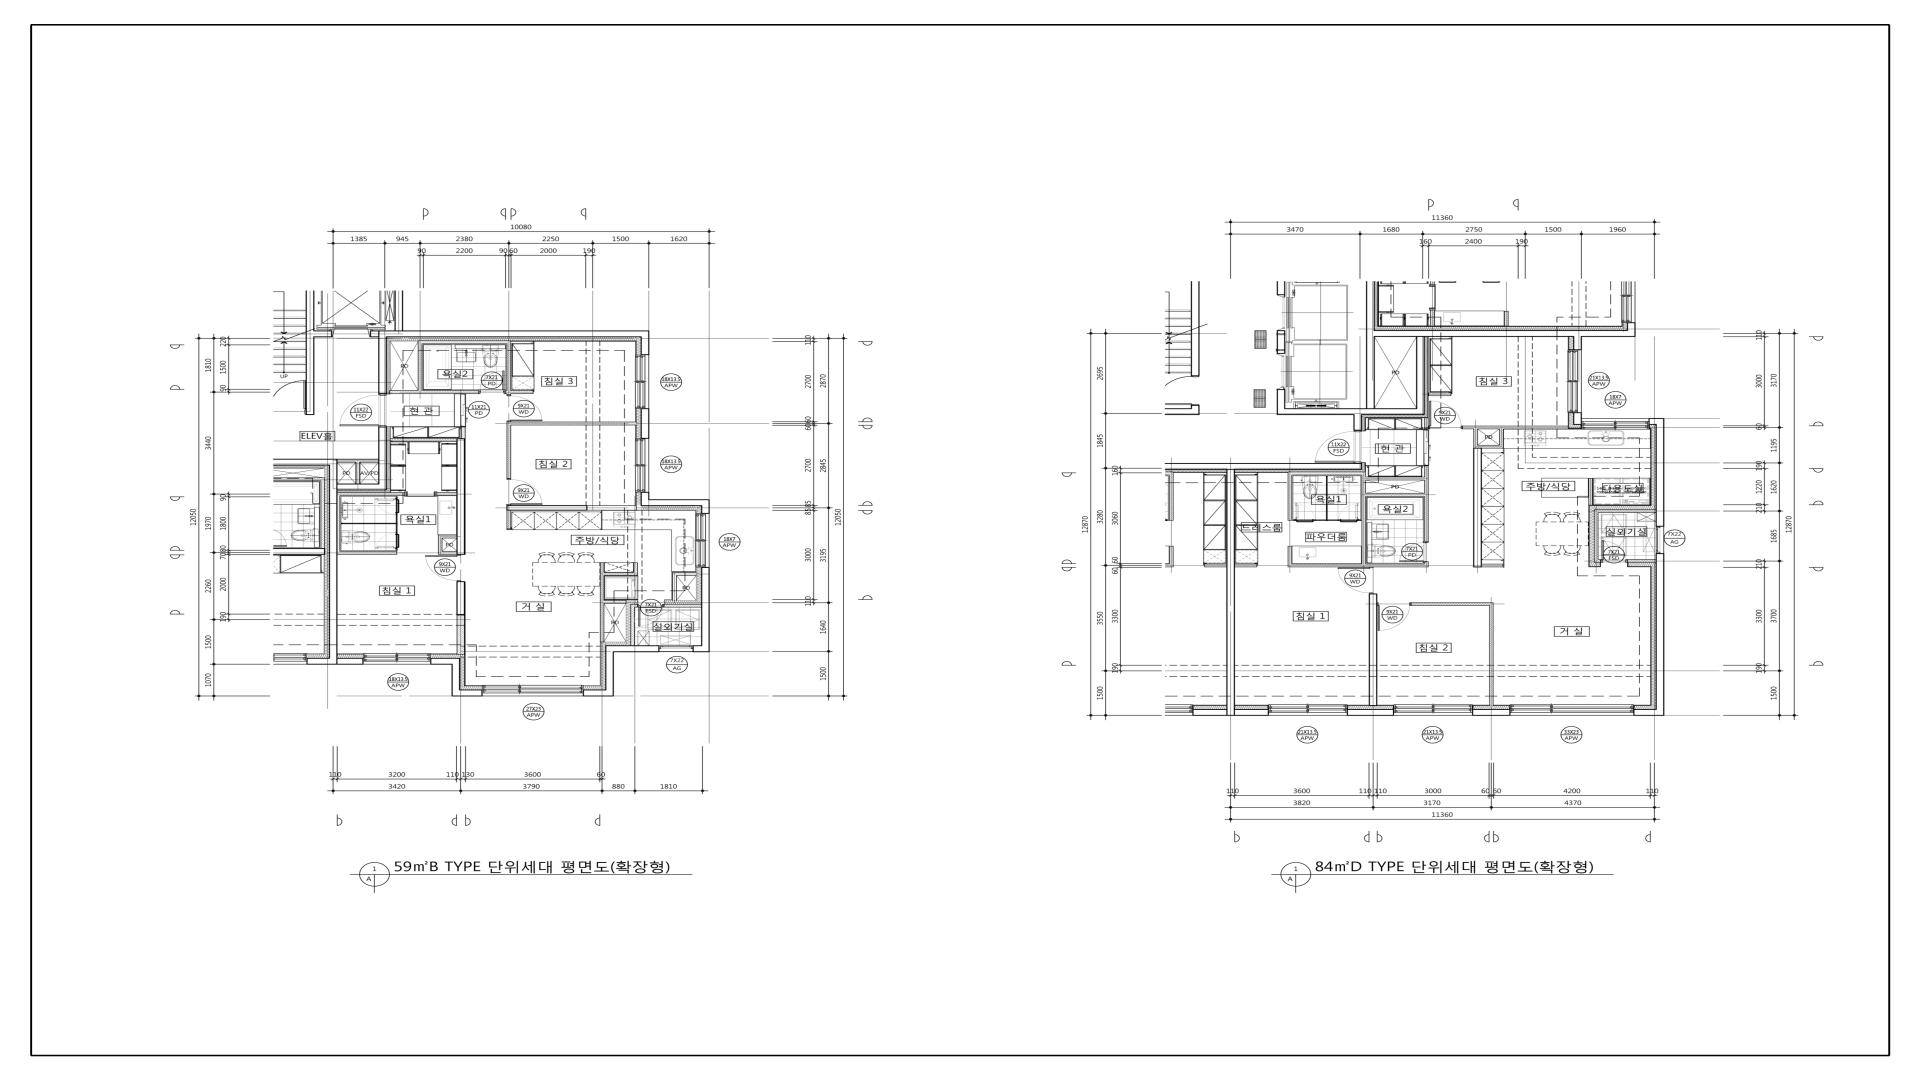door: (340, 394, 386, 427), (1315, 431, 1362, 463), (272, 380, 306, 415), (1428, 401, 1462, 430), (1164, 376, 1199, 405), (506, 394, 542, 422), (1337, 567, 1374, 593), (425, 555, 462, 582), (506, 479, 543, 505), (1377, 603, 1411, 630), (479, 371, 505, 394), (1399, 541, 1428, 562), (1601, 541, 1627, 563), (637, 604, 663, 626), (1292, 502, 1316, 522), (1338, 502, 1361, 522), (460, 394, 467, 427), (1424, 430, 1429, 465), (405, 492, 436, 497)
wall: (1226, 469, 1236, 716), (328, 465, 338, 665), (378, 331, 649, 338), (1375, 330, 1582, 338), (1164, 463, 1362, 469), (1656, 554, 1664, 716), (1366, 281, 1375, 409), (1473, 448, 1482, 567), (456, 438, 465, 555), (306, 290, 314, 415), (1286, 409, 1424, 415), (1369, 593, 1377, 705), (1656, 425, 1664, 526), (1191, 281, 1199, 376), (702, 567, 709, 646), (1416, 338, 1424, 409), (1489, 607, 1494, 705), (378, 427, 386, 491), (510, 422, 637, 426), (1361, 472, 1366, 567), (605, 645, 615, 696), (641, 500, 709, 506), (378, 338, 386, 394), (273, 459, 338, 465), (506, 505, 587, 510), (1462, 426, 1568, 430), (394, 290, 404, 331), (615, 645, 659, 653), (389, 390, 479, 394), (451, 658, 460, 696), (456, 616, 465, 654), (422, 340, 506, 344), (1594, 513, 1601, 563), (1366, 562, 1428, 567), (456, 582, 465, 616), (1346, 709, 1394, 716), (600, 563, 604, 642), (1424, 465, 1428, 542), (506, 422, 512, 479), (1287, 563, 1361, 567), (505, 340, 510, 394), (630, 604, 637, 645), (338, 484, 378, 491), (587, 505, 637, 510), (340, 492, 405, 496), (1472, 709, 1510, 716), (1287, 475, 1292, 521), (1276, 389, 1286, 415), (1594, 509, 1655, 513), (641, 409, 649, 439), (1164, 409, 1200, 415), (1366, 493, 1424, 497), (1234, 709, 1269, 716), (340, 551, 397, 555), (1276, 330, 1286, 353), (1411, 603, 1494, 605), (418, 340, 422, 390), (1287, 472, 1361, 475), (338, 658, 364, 665), (390, 439, 456, 442), (338, 492, 340, 555), (338, 459, 378, 463), (1366, 477, 1424, 480), (663, 604, 702, 608), (1634, 709, 1656, 716), (583, 690, 605, 696), (460, 690, 483, 696), (1353, 415, 1362, 431), (1588, 479, 1593, 505), (430, 658, 451, 665), (641, 338, 649, 355), (692, 645, 709, 653), (1276, 281, 1286, 295), (314, 331, 332, 338), (604, 572, 634, 576), (1325, 476, 1328, 520), (1627, 559, 1655, 563), (1573, 338, 1582, 349), (1473, 429, 1478, 448), (1648, 418, 1664, 425), (438, 534, 443, 554), (1478, 444, 1503, 448), (506, 510, 512, 529), (1573, 413, 1581, 425), (673, 576, 676, 600), (673, 572, 696, 576), (1287, 546, 1292, 563), (510, 390, 533, 394), (604, 600, 626, 604), (356, 463, 360, 484), (436, 492, 456, 496), (641, 492, 650, 500), (1428, 393, 1452, 396), (1234, 564, 1257, 567), (1499, 430, 1503, 444), (442, 534, 456, 538), (634, 562, 638, 576), (1482, 564, 1503, 567), (371, 331, 378, 338), (702, 506, 709, 513), (1424, 418, 1428, 429), (462, 427, 465, 438), (442, 551, 456, 554), (1316, 520, 1338, 521), (1191, 405, 1199, 407)
window: (1510, 704, 1634, 716), (481, 686, 583, 696), (1269, 704, 1346, 716), (1394, 704, 1472, 716), (1568, 349, 1581, 413), (1581, 418, 1648, 430), (696, 513, 709, 567), (636, 355, 649, 409), (363, 654, 430, 665), (636, 439, 649, 492), (1656, 526, 1664, 554), (659, 646, 692, 653)
